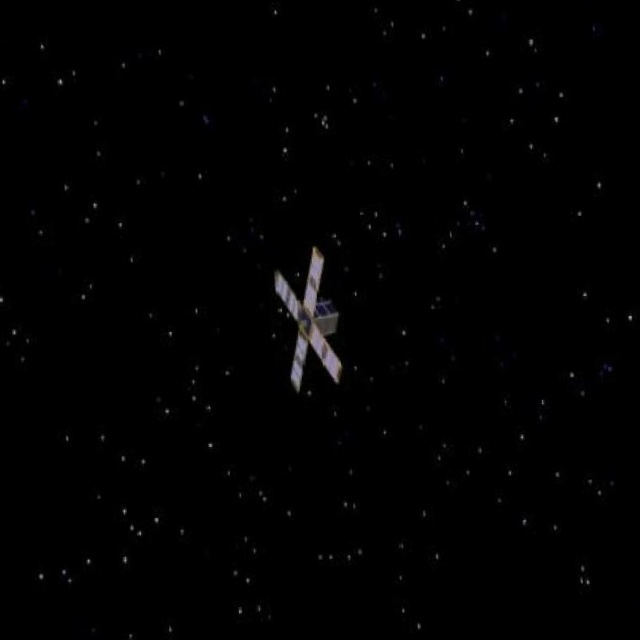medium_debris: (258, 234, 355, 404)
